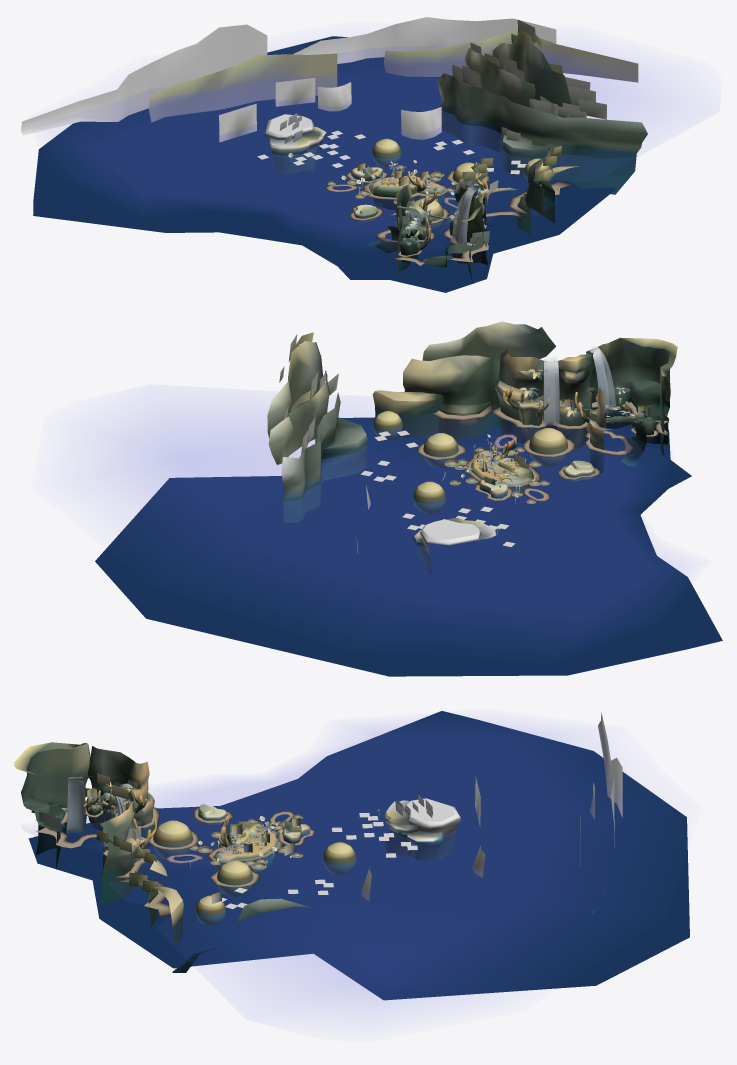
File: 05Crossing.gltf
3 renders of one model, top to bottom at view 1: azimuth 30°, elevation 25°; view 2: azimuth 150°, elevation 25°; view 3: azimuth 270°, elevation 25°, orthographic. The views are drawn at different scales.
Parts seen in each view (by area): view 1: stg020_o22_Mesh_16, stg020_w22_Mesh_0, stg020_p21_Mesh_52, stg020_o22_Mesh_6, stg020_p22_Mesh_24, stg020_p21_Mesh_27, stg020_ripple_k_21_Mesh_10, stg020_o22_Mesh_11, stg020_falls_w_22_Mesh_0, stg020_p21_Mesh_44, stg020_p22_Mesh_4, stg020_o22_Mesh_2 (+1 smaller); view 2: stg020_o22_Mesh_16, stg020_w22_Mesh_0, stg020_o22_Mesh_6, stg020_ripple_k_21_Mesh_10, stg020_o22_Mesh_11, stg020_falls_w_22_Mesh_0, stg020_p22_Mesh_24, stg020_o22_Mesh_8, stg020_p21_Mesh_44, stg020_p22_Mesh_4, stg020_o22_Mesh_2; view 3: stg020_o22_Mesh_16, stg020_w22_Mesh_0, stg020_o22_Mesh_6, stg020_ripple_k_21_Mesh_10, stg020_o22_Mesh_11, stg020_p22_Mesh_24, stg020_p21_Mesh_52, stg020_falls_w_22_Mesh_0, stg020_p21_Mesh_44, stg020_o22_Mesh_8, stg020_p22_Mesh_20, stg020_p21_Mesh_27 (+2 smaller).
Boxes of the visible parts, x1,y1,x2,y2 form: stg020_o22_Mesh_16: (33,36,615,292); stg020_w22_Mesh_0: (64,52,676,256); stg020_p21_Mesh_52: (21,17,638,135); stg020_o22_Mesh_6: (265,30,647,282); stg020_p22_Mesh_24: (279,20,606,247); stg020_p21_Mesh_27: (219,78,441,142); stg020_ripple_k_21_Mesh_10: (325,165,572,265); stg020_o22_Mesh_11: (372,143,550,232); stg020_falls_w_22_Mesh_0: (451,171,479,244); stg020_p21_Mesh_44: (257,130,526,174); stg020_p22_Mesh_4: (364,171,487,244); stg020_o22_Mesh_2: (408,172,490,250); stg020_o22_Mesh_16: (95,337,722,676); stg020_w22_Mesh_0: (97,404,679,637); stg020_o22_Mesh_6: (267,321,670,575); stg020_ripple_k_21_Mesh_10: (417,402,668,504); stg020_o22_Mesh_11: (373,416,567,513); stg020_falls_w_22_Mesh_0: (542,345,615,426); stg020_p22_Mesh_24: (279,334,597,484); stg020_o22_Mesh_8: (377,411,562,492); stg020_p21_Mesh_44: (360,430,515,546); stg020_p22_Mesh_4: (472,369,649,482); stg020_o22_Mesh_2: (501,387,634,458); stg020_o22_Mesh_16: (14,711,689,1000); stg020_w22_Mesh_0: (62,724,621,1010); stg020_o22_Mesh_6: (21,744,460,972); stg020_ripple_k_21_Mesh_10: (36,801,315,917); stg020_o22_Mesh_11: (153,826,356,925); stg020_p22_Mesh_24: (39,773,433,891); stg020_p21_Mesh_52: (580,712,622,914); stg020_falls_w_22_Mesh_0: (66,777,134,833); stg020_p21_Mesh_44: (222,801,417,908); stg020_o22_Mesh_8: (158,820,351,905); stg020_p22_Mesh_20: (85,787,300,904); stg020_p21_Mesh_27: (361,776,485,901).
Bounding box in the file's own units: 894 × 169 × 736.
